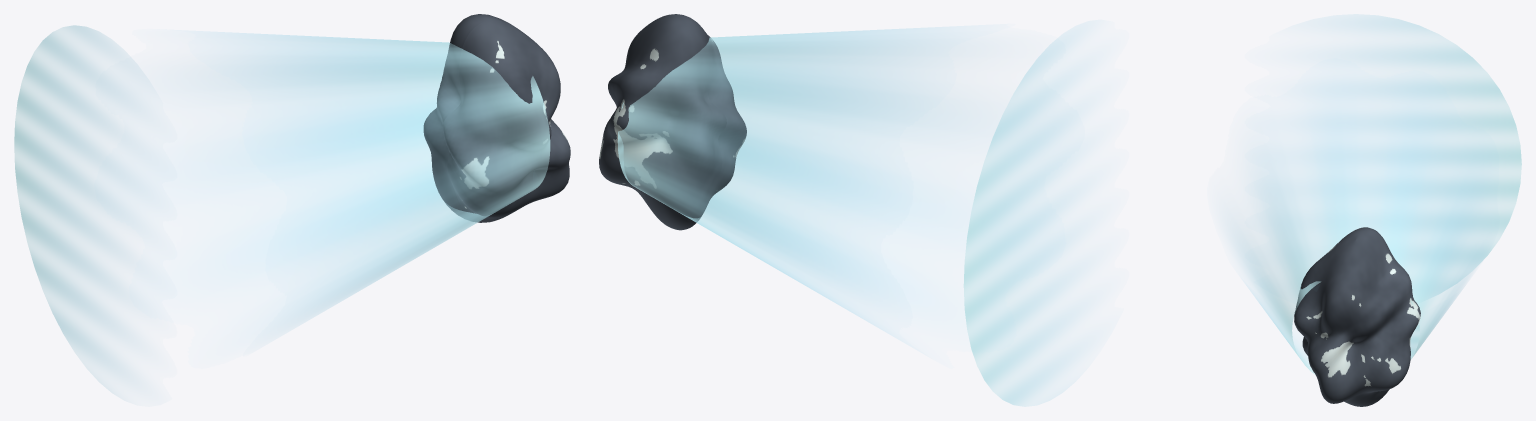
The model's file is comet.glb.
3 renders of one model, left to right at view 1: azimuth 30°, elevation 25°; view 2: azimuth 150°, elevation 25°; view 3: azimuth 270°, elevation 25°, orthographic. The views are drawn at different scales.
Visible parts, largest first — view 1: cometa_cauda, cometa_nucleo; view 2: cometa_cauda, cometa_nucleo; view 3: cometa_cauda, cometa_nucleo.
Boxes of the visible parts, x1,y1,x2,y2 form: cometa_cauda: (14,25,550,394); cometa_nucleo: (423,14,570,222); cometa_cauda: (617,26,1083,406); cometa_nucleo: (599,14,746,230); cometa_cauda: (1230,14,1521,374); cometa_nucleo: (1294,227,1420,406).
Size of the model in its own units: 3.55 by 2.7 by 2.7.
2 materials, 2 textured.
